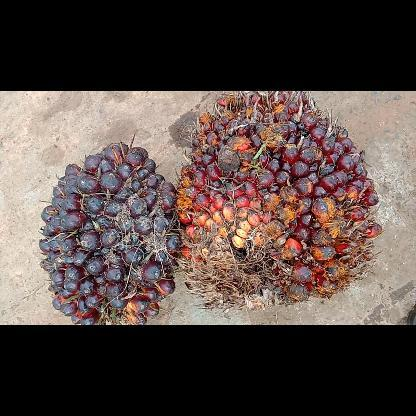TBS masak: (175, 90, 382, 310)
TBS mentah: (39, 142, 183, 324)
